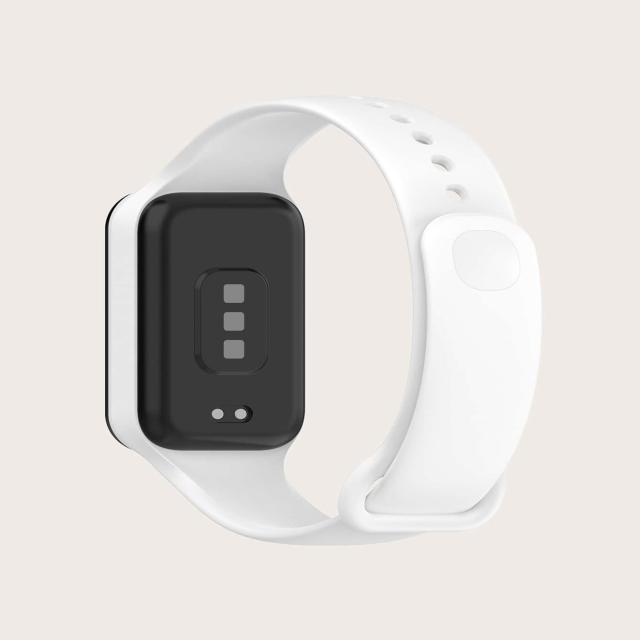bracelet: (74, 24, 604, 614)
